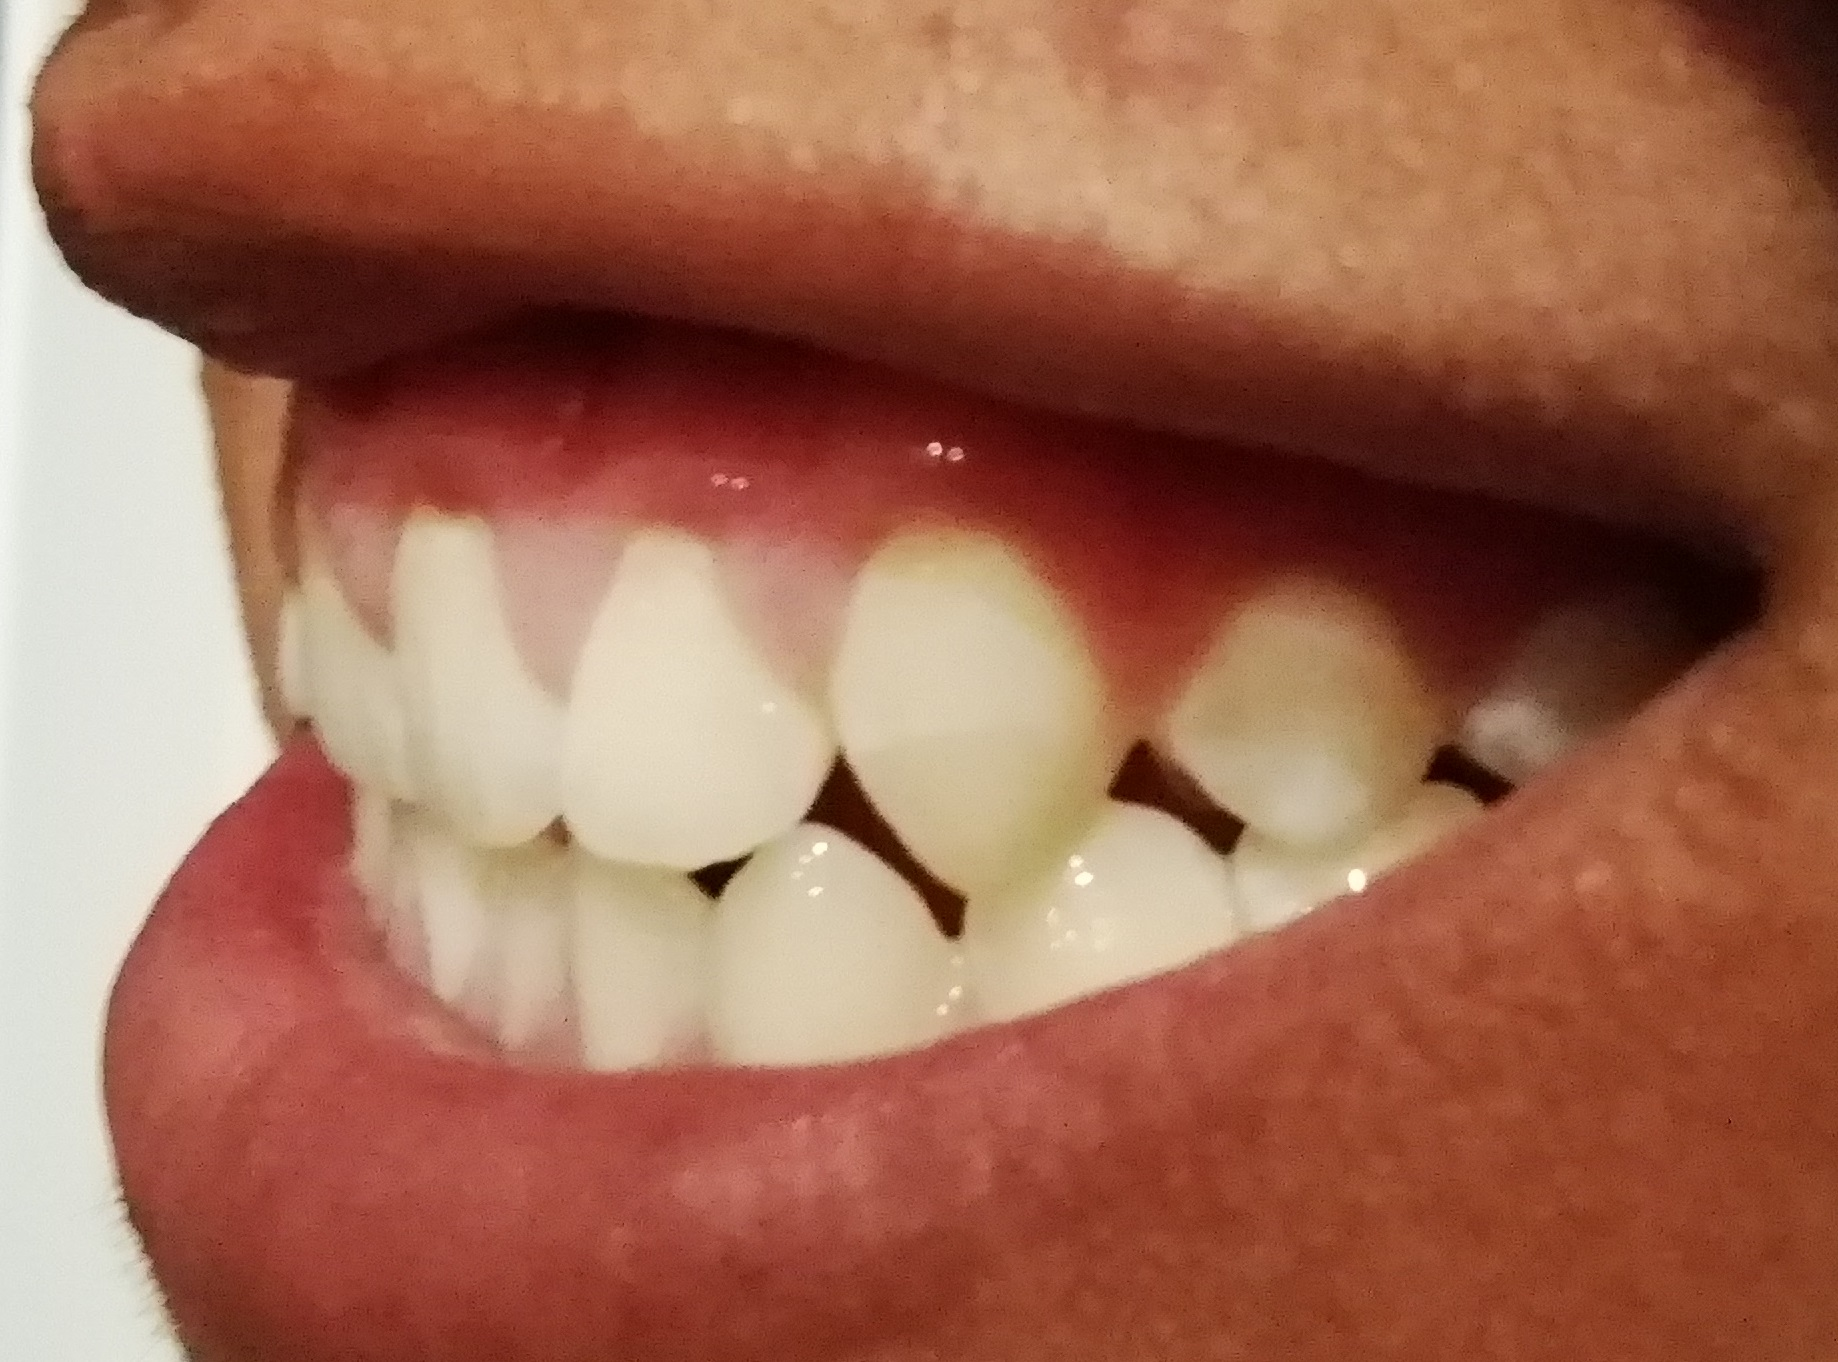boca: (275, 504, 1623, 1069)
